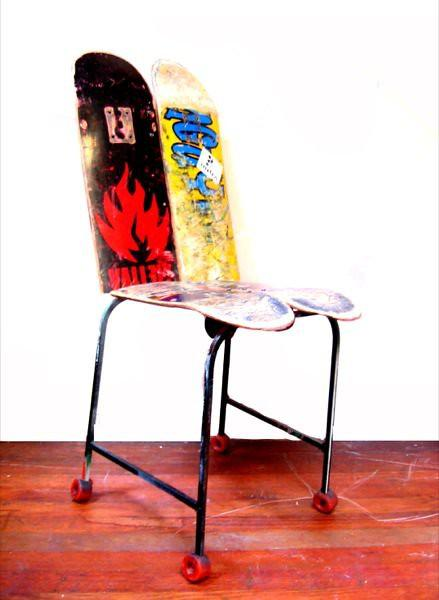chair: (70, 51, 362, 583)
